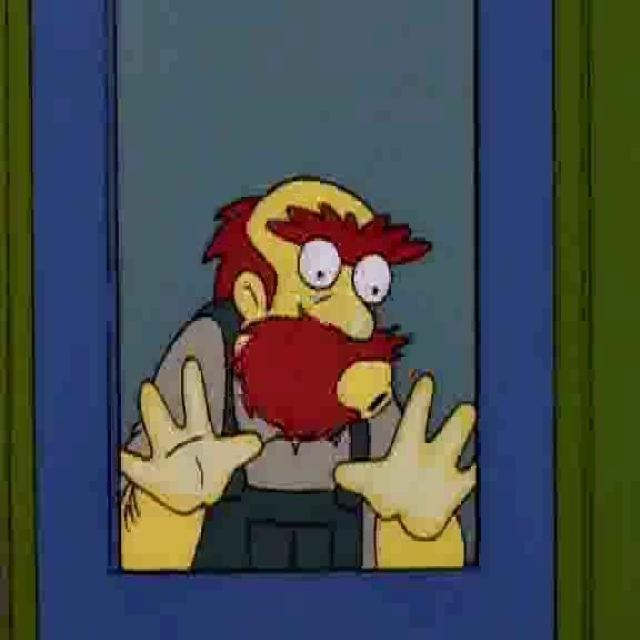Groundskeeper Willie: (199, 172, 437, 450)
